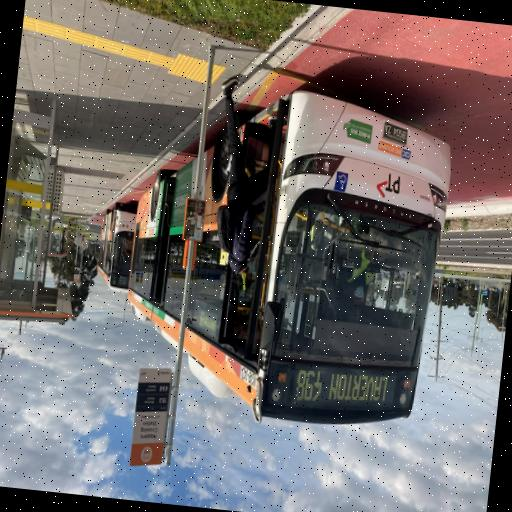clear_path: (63, 0, 257, 214)
platform_edge: (90, 61, 259, 214)
signage: (124, 43, 221, 474), (72, 213, 88, 286)
tgsi: (26, 17, 224, 87)
